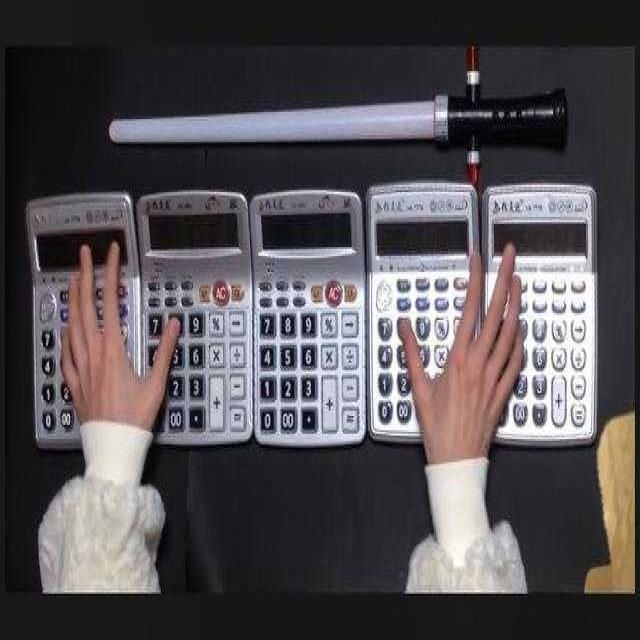Calculator: (250, 190, 365, 446), (136, 190, 251, 444), (27, 192, 140, 448)
